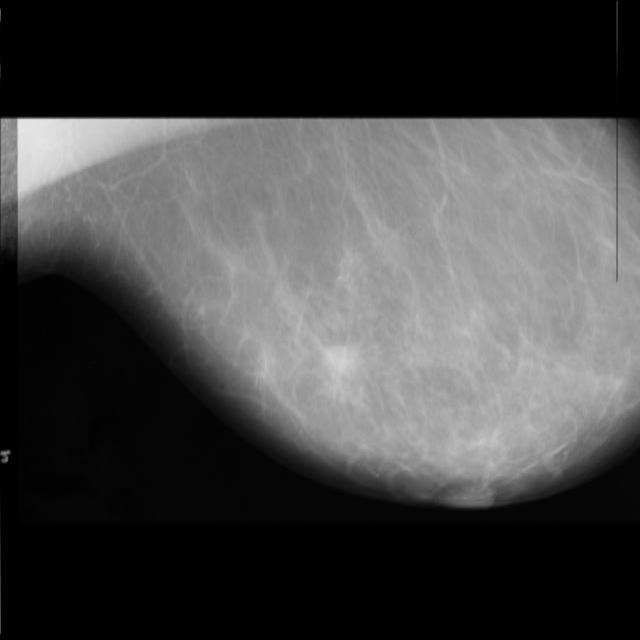ARCH: (281, 301, 399, 419)
